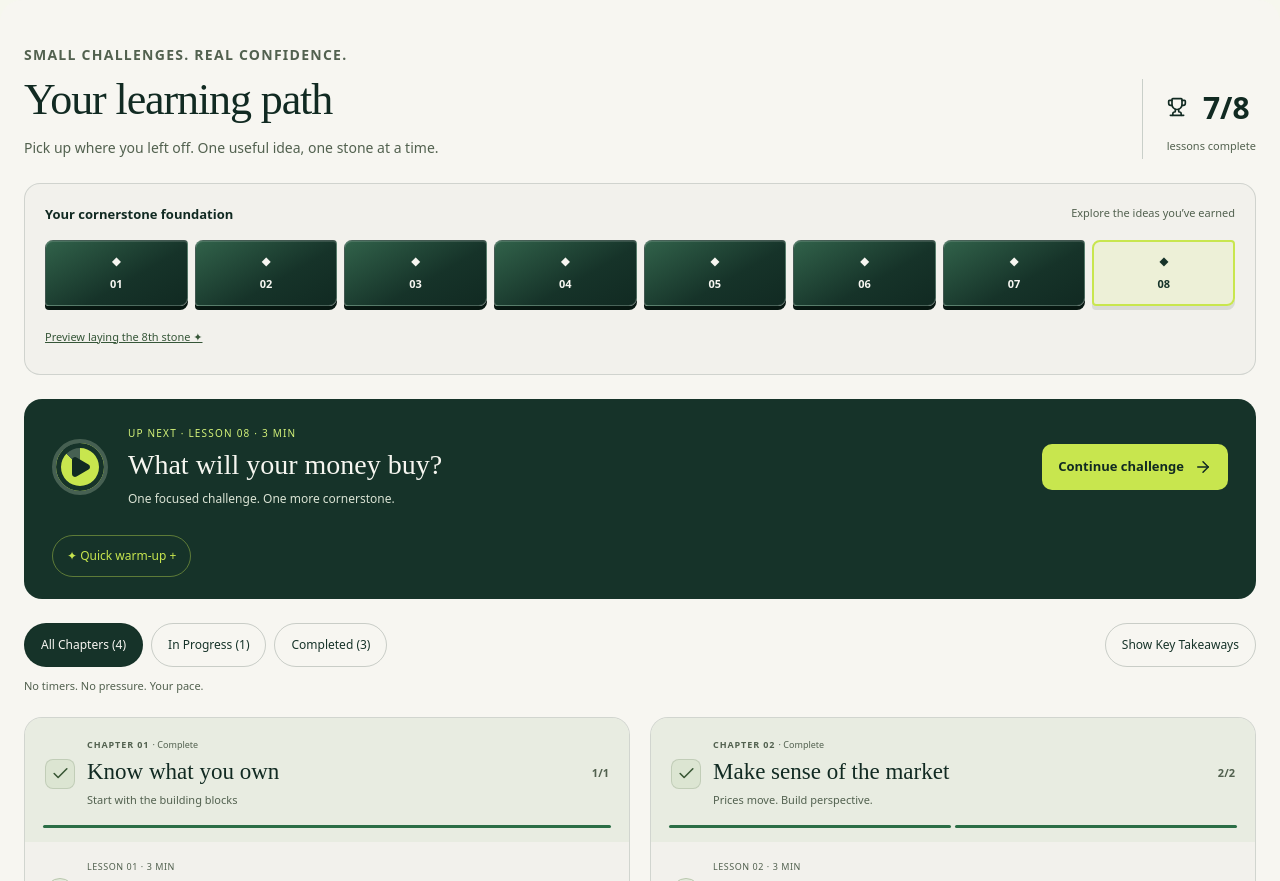
Scenario: filters chapters and reveals earned pocket takeaways
The image size is (1280, 881).
Click the button "In Progress (1)".
click(209, 645)  # box x1=151 y1=623 x2=266 y2=667
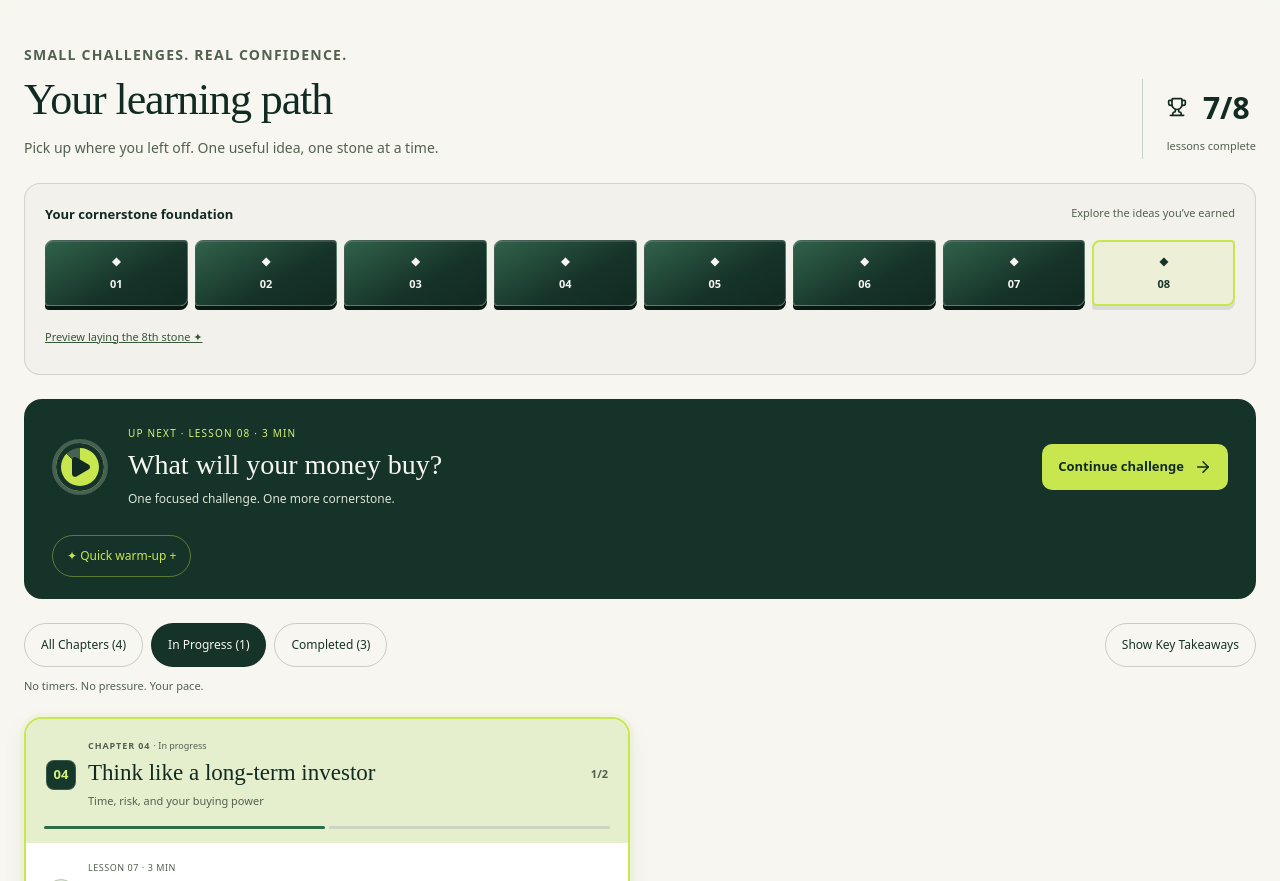
Expected: the heading "Think like a long-term investor" is shown, x1=88 y1=760 x2=375 y2=785
Expected: the heading "Know what you own" is gone
Click the button "Completed (3)".
click(331, 645)  # box x1=274 y1=623 x2=388 y2=667
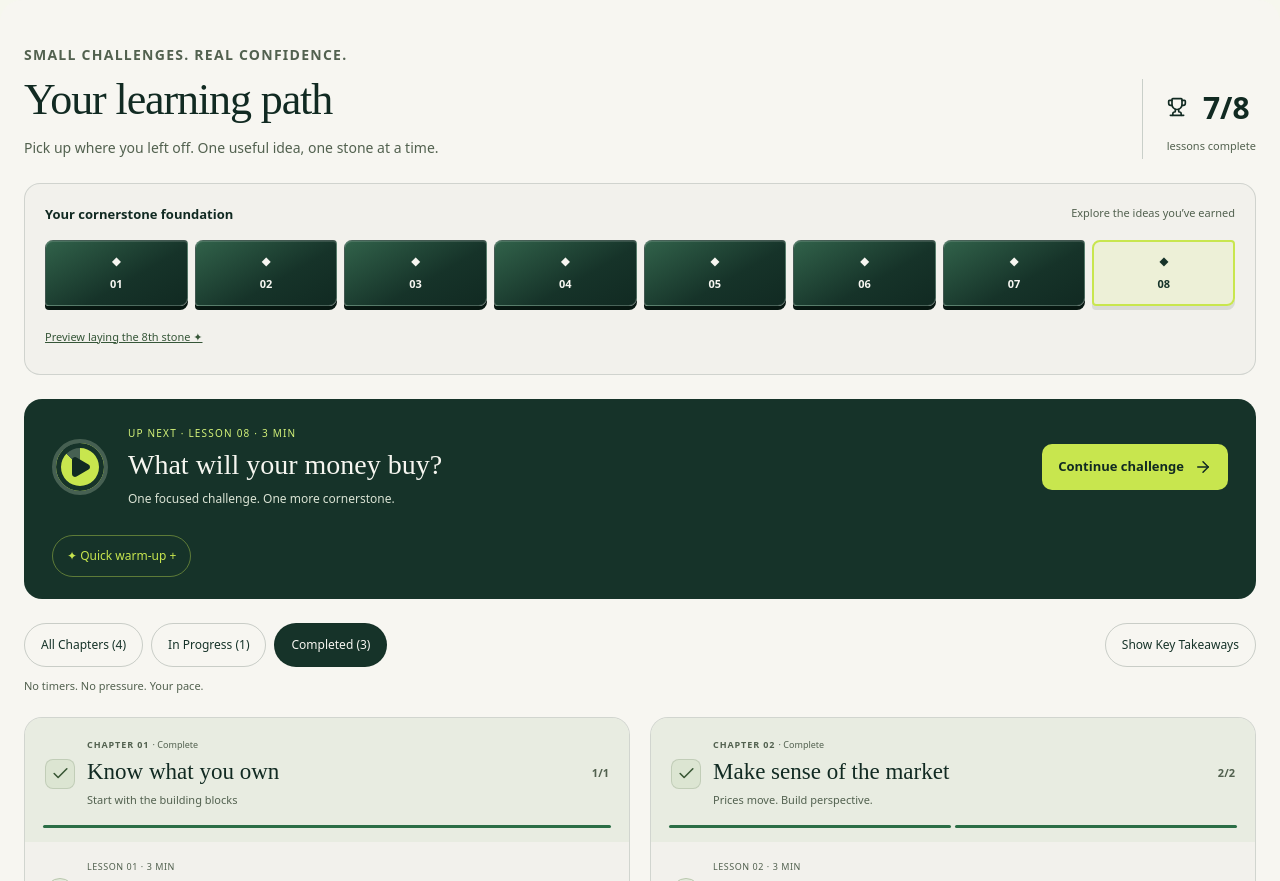
Click the button "Show Key Takeaways".
click(1180, 645)  # box x1=1105 y1=623 x2=1256 y2=667
(page scrolled)
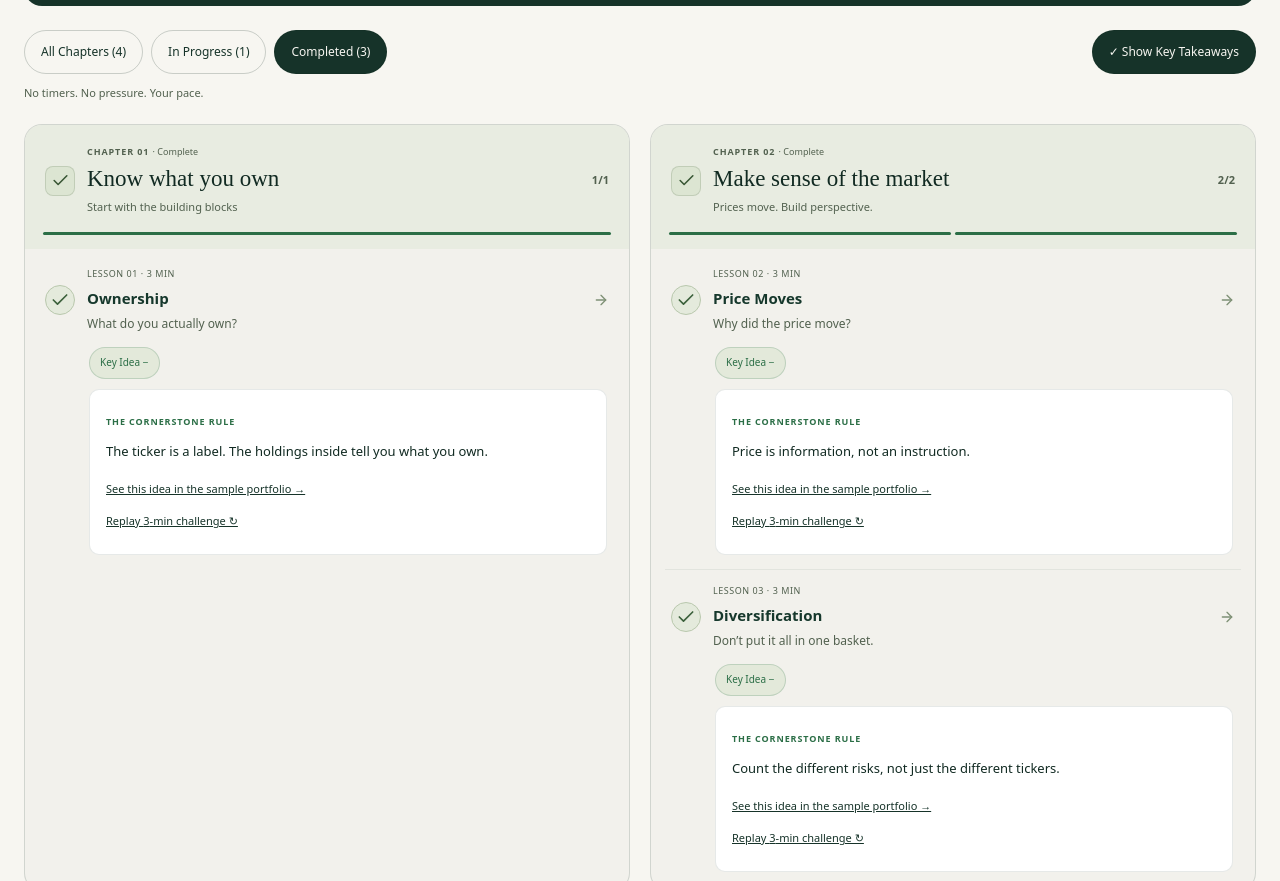
Expected: the text "The ticker is a label. The holdings inside tell you what you own." is shown, x1=106 y1=442 x2=488 y2=460
